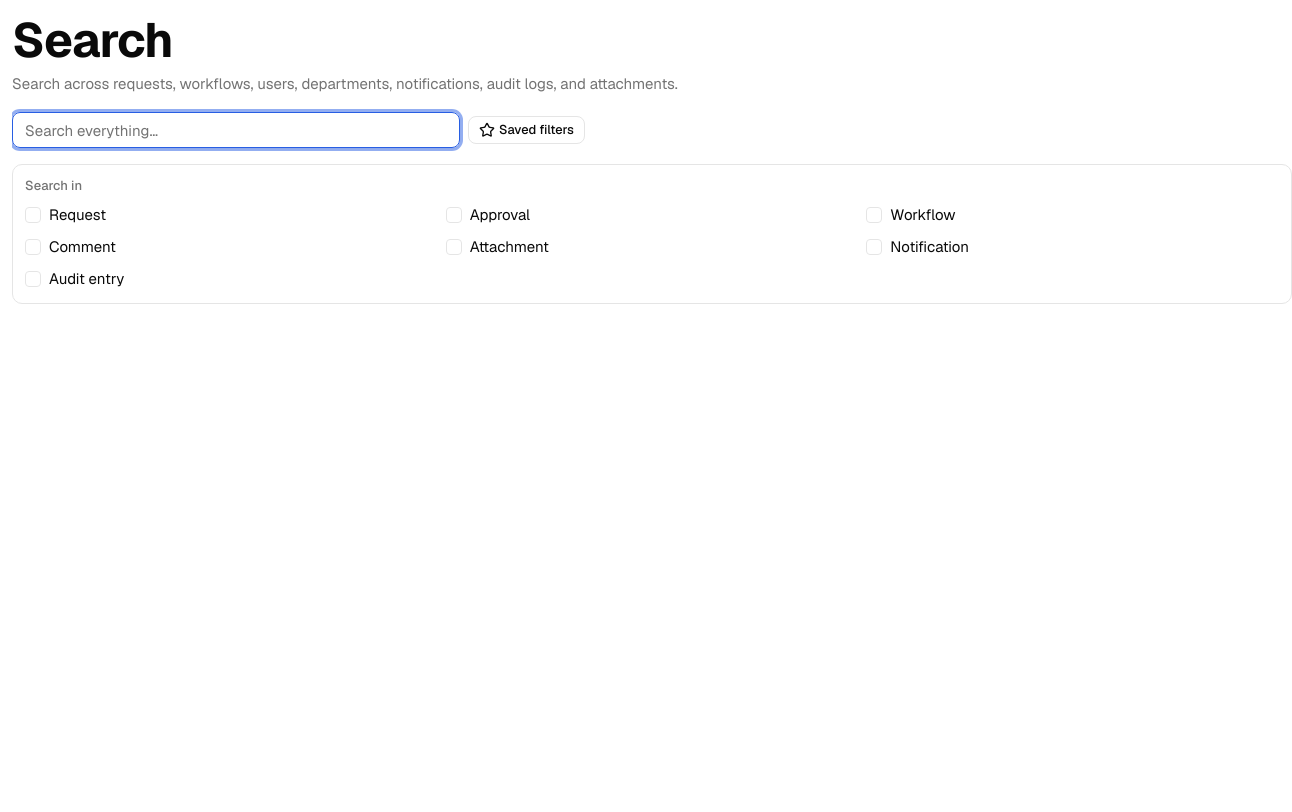
SearchPage › shows an error state and can retry
Step 1. Type "laptop" into the field labelled "Search" → (236, 130), box [12,112,460,148]
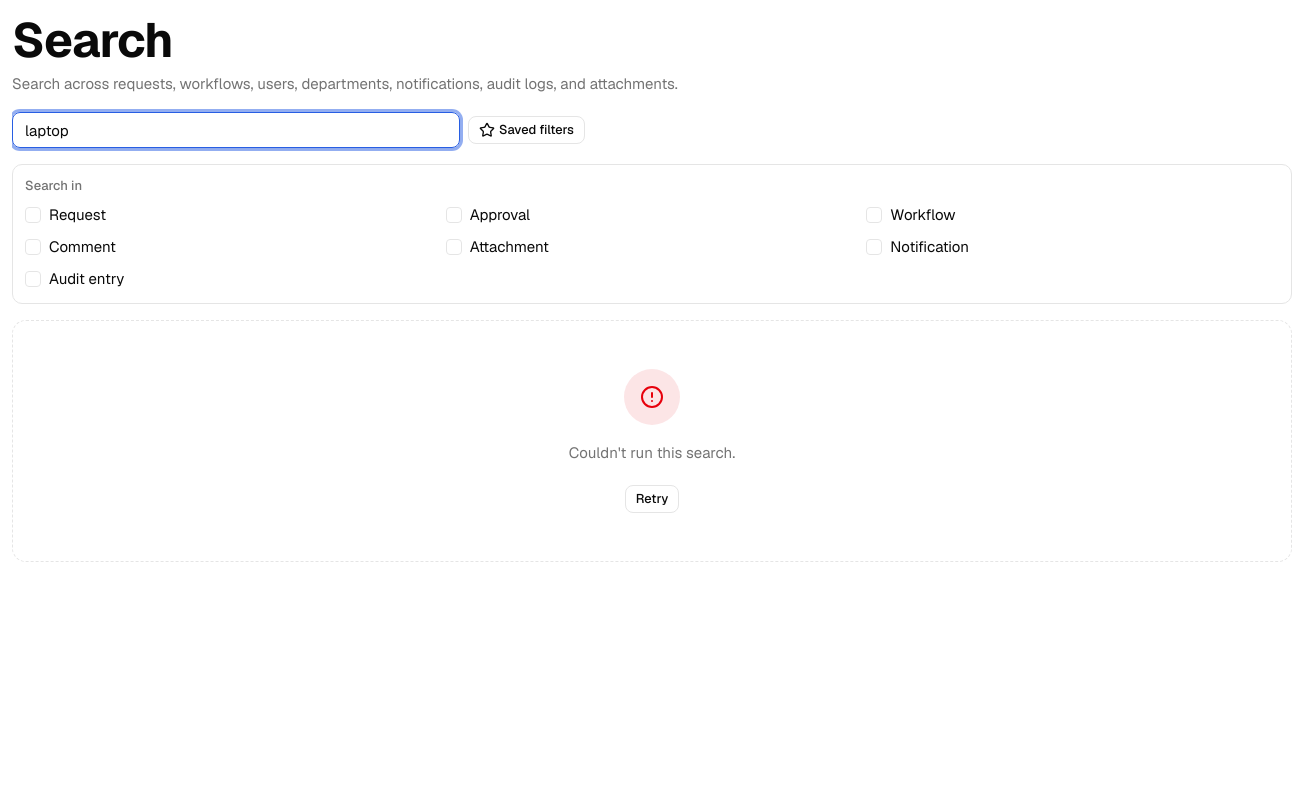
Now the text "Couldn't run this search." is shown, box [569,441,735,465]
